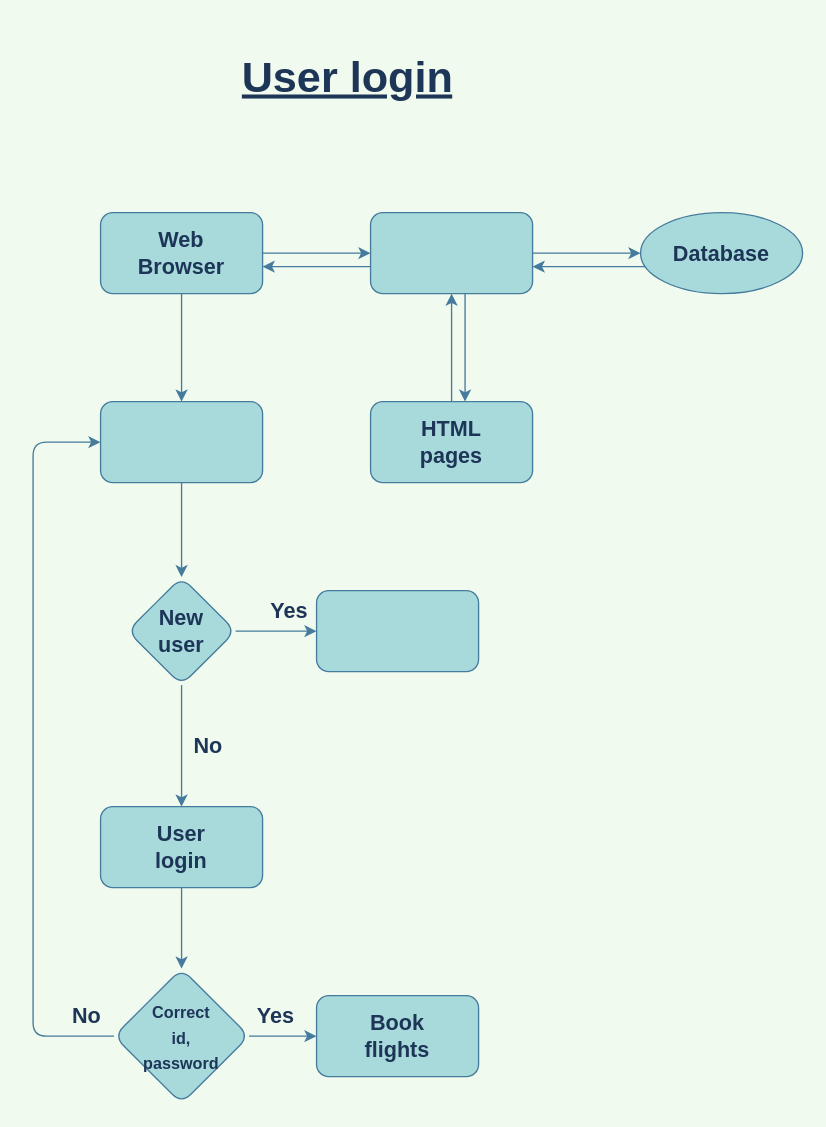
Image size: 826x1127. Some labels were removed from this diagram. The shapes that lost their labels are listed below. From the top down, each one's centre as x and y in pixels, then its label:
At point 451,252: "Servlet".
At point 181,441: "Home page".
At point 397,630: "User registration".
